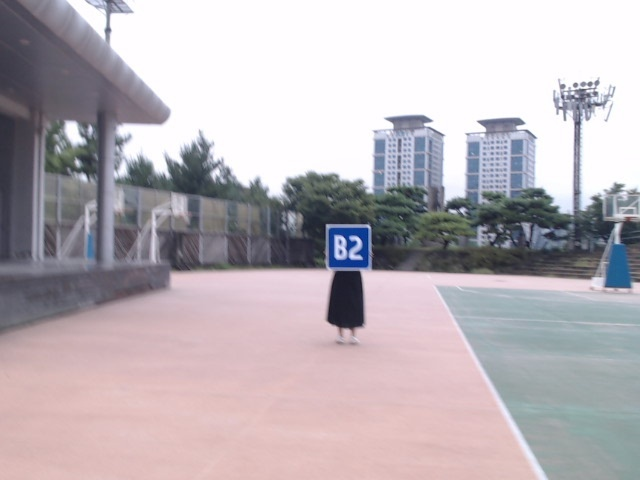delivery_b2: (326, 225, 371, 271)
